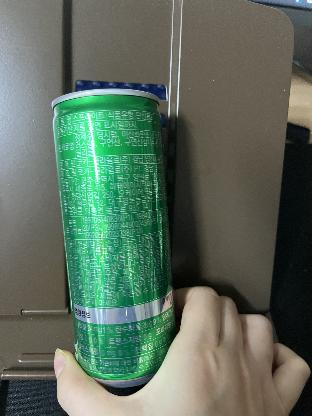Can: (51, 87, 178, 389)
